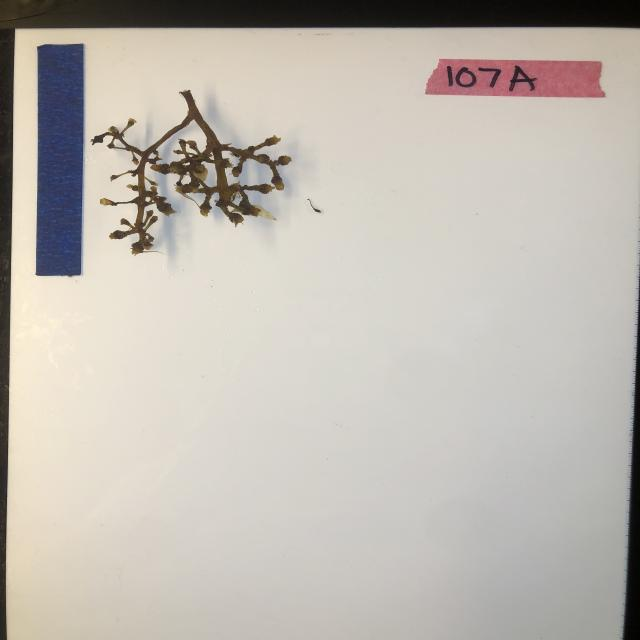index: (422, 57, 608, 100)
measure_label: (34, 42, 84, 278)
rachis_cluster: (93, 87, 296, 256)
